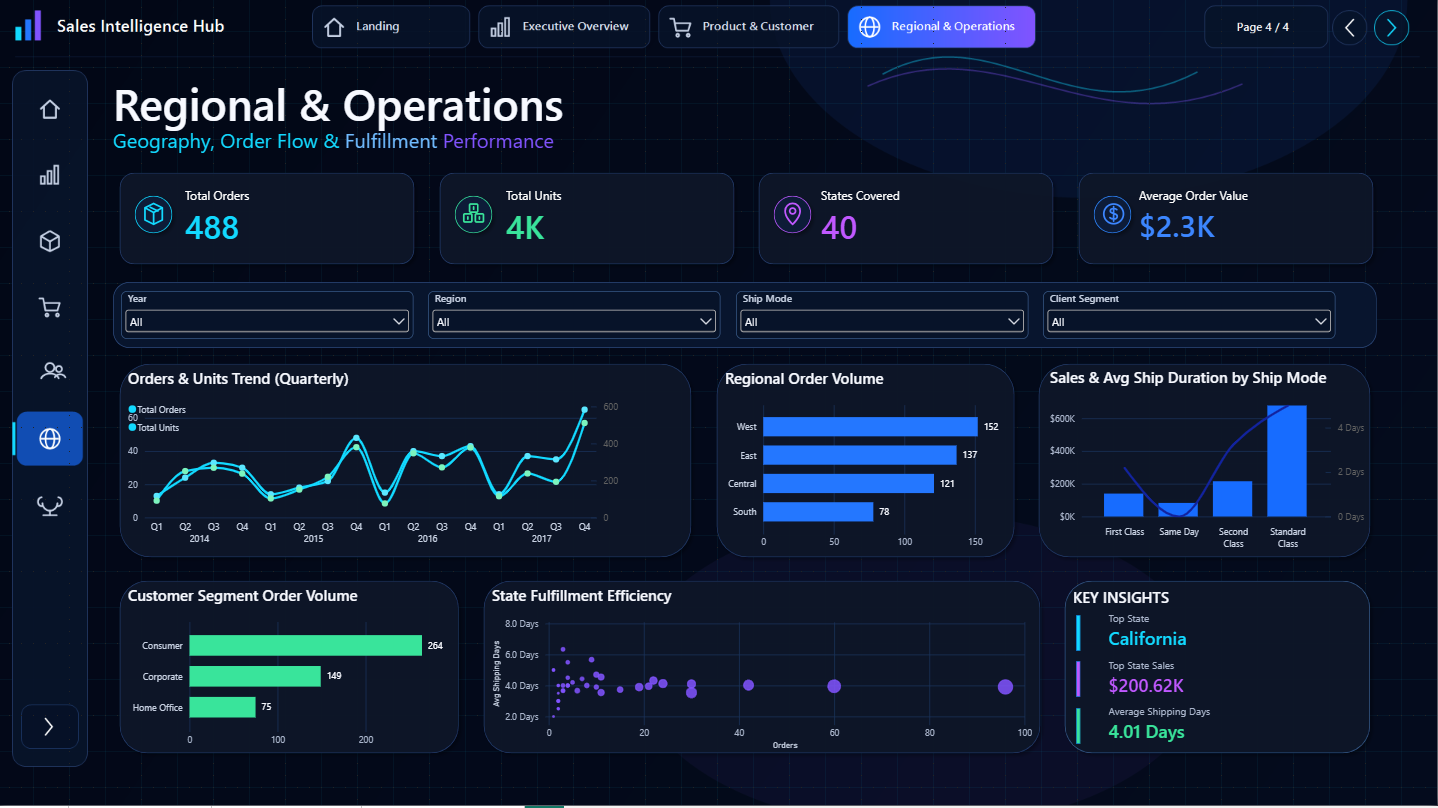

Layout of this report page (visuals, bound fields, positions):
{"tool":"powerbi","page":{"name":" Regional & Operations","canvas":[1920,1080],"ordinal":3},"visuals":[{"type":"shape","box":[155,382,1685,88],"z":0},{"type":"shape","box":[155,228,410.7,140],"z":1000},{"type":"shape","box":[882,14,240,56],"z":2000},{"type":"shape","box":[642,14,228,56],"z":3000},{"type":"shape","box":[420,14,210,56],"z":4000},{"type":"shape","box":[1134,14,250,56],"z":5000},{"type":"shape","box":[20,115,100,72],"z":6000},{"type":"shape","box":[20,203,100,72],"z":7000},{"type":"shape","box":[20,291,100,72],"z":8000},{"type":"shape","box":[20,379,100,72],"z":9000},{"type":"shape","box":[20,467,100,72],"z":10000},{"type":"shape","box":[20,555,100,72],"z":11000},{"type":"shape","box":[20,643,100,72],"z":12000},{"type":"shape","box":[1780,20,46,46],"z":13000},{"type":"shape","box":[1836,20,46,46],"z":14000},{"type":"textbox","box":[155,105,850,88],"z":15000},{"type":"textbox","box":[155,174,800,38],"z":16000},{"type":"shape","box":[581,228,410.7,140],"z":17000},{"type":"shape","box":[1433,228,410.7,140],"z":18000},{"type":"shape","box":[1007,228,410.7,140],"z":19000},{"type":"cardVisual","fields":{"Data":["_Measures.Total Orders"]},"box":[235,244,315,105],"z":20000},{"type":"cardVisual","fields":{"Data":["_Measures.Total Units"]},"box":[662,244,315,105],"z":21000},{"type":"cardVisual","fields":{"Data":["_Measures.States Covered"]},"box":[1083,244,315,105],"z":22000},{"type":"cardVisual","fields":{"Data":["_Measures.Average Order Value"]},"box":[1507,243,315,105],"z":23000},{"type":"shape","box":[175,258,68,68],"z":24000},{"type":"shape","box":[601,258,68,68],"z":25000},{"type":"shape","box":[1027,258,68,68],"z":26000},{"type":"shape","box":[1453,258,68,68],"z":27000},{"type":"image","box":[185,273,47,37],"z":28000},{"type":"image","box":[612,273,47,37],"z":29000},{"type":"image","box":[1037,273,47,37],"z":30000},{"type":"image","box":[1465,273,47,37],"z":31000},{"type":"slicer","fields":{"Values":["Sales_Data.Client Segment"]},"box":[1395,394,390,64],"z":32000},{"type":"slicer","fields":{"Values":["Sales_Data.Ship Mode"]},"box":[985,394,390,64],"z":33000},{"type":"slicer","fields":{"Values":["Sales_Data.Region"]},"box":[575,394,390,64],"z":34000},{"type":"slicer","fields":{"Values":["Date.Year"]},"box":[165,394,390,64],"z":35000},{"type":"shape","box":[640,772,760,248],"z":36000},{"type":"shape","box":[155,482,780,276],"z":37000},{"type":"shape","box":[1415,772,425,248],"z":38000},{"type":"shape","box":[155,772,470,248],"z":39000},{"type":"shape","box":[1380,482,460,276],"z":40000},{"type":"shape","box":[950,482,415,276],"z":41000},{"type":"lineChart","title":"Orders & Units Trend (Quarterly)","fields":{"Category":["Date.Year","Date.Quarter"],"Y":["_Measures.Total Orders"],"Y2":["_Measures.Total Units"]},"box":[167,490,756,258],"z":42000},{"type":"clusteredBarChart","title":"Regional Order Volume","fields":{"Category":["Sales_Data.Region"],"Y":["_Measures.Total Orders"]},"box":[962,490,391,258],"z":43000},{"type":"clusteredBarChart","title":"Customer Segment Order Volume","fields":{"Category":["Sales_Data.Client Segment"],"Y":["_Measures.Total Orders"]},"box":[167,780,446,232],"z":45000},{"type":"scatterChart","title":"State Fulfillment Efficiency","fields":{"Category":["Sales_Data.State"],"Size":["_Measures.Total Units"],"X":["_Measures.Total Orders"],"Y":["_Measures.Average Shipping Days"]},"box":[652,780,736,232],"z":46000},{"type":"textbox","box":[1435,788,360,34],"z":47000},{"type":"shape","box":[1438,888,6,48],"z":48000},{"type":"shape","box":[1438,826,6,48],"z":49000},{"type":"shape","box":[1438,950,6,48],"z":50000},{"type":"cardVisual","fields":{"Data":["_Measures.Top State"]},"box":[1460,820,350,56],"z":51000},{"type":"cardVisual","fields":{"Data":["_Measures.Top State Sales"]},"box":[1460,882,350,56],"z":52000},{"type":"cardVisual","fields":{"Data":["_Measures.Average Shipping Days"]},"box":[1460,944,350,56],"z":53000},{"type":"lineClusteredColumnComboChart","title":"Sales & Avg Ship Duration by Ship Mode","fields":{"Category":["Sales_Data.Ship Mode"],"Y":["_Measures.Total Sales"],"Y2":["_Measures.Average Shipping Days"]},"box":[1396,489.3,436,258],"z":53001}]}

Visuals, with their boxes on the page's 1920x1080 design canvas (x1, y1, x2, y2). These are canvas units, not pixel positions in the 1438x808 screenshot, which may show the page scaled, cropped or inside an application window:
shape: [155,382,1840,470]
shape: [155,228,566,368]
shape: [882,14,1122,70]
shape: [642,14,870,70]
shape: [420,14,630,70]
shape: [1134,14,1384,70]
shape: [20,115,120,187]
shape: [20,203,120,275]
shape: [20,291,120,363]
shape: [20,379,120,451]
shape: [20,467,120,539]
shape: [20,555,120,627]
shape: [20,643,120,715]
shape: [1780,20,1826,66]
shape: [1836,20,1882,66]
textbox: [155,105,1005,193]
textbox: [155,174,955,212]
shape: [581,228,992,368]
shape: [1433,228,1844,368]
shape: [1007,228,1418,368]
cardVisual - _Measures.Total Orders: [235,244,550,349]
cardVisual - _Measures.Total Units: [662,244,977,349]
cardVisual - _Measures.States Covered: [1083,244,1398,349]
cardVisual - _Measures.Average Order Value: [1507,243,1822,348]
shape: [175,258,243,326]
shape: [601,258,669,326]
shape: [1027,258,1095,326]
shape: [1453,258,1521,326]
image: [185,273,232,310]
image: [612,273,659,310]
image: [1037,273,1084,310]
image: [1465,273,1512,310]
slicer - Sales_Data.Client Segment: [1395,394,1785,458]
slicer - Sales_Data.Ship Mode: [985,394,1375,458]
slicer - Sales_Data.Region: [575,394,965,458]
slicer - Date.Year: [165,394,555,458]
shape: [640,772,1400,1020]
shape: [155,482,935,758]
shape: [1415,772,1840,1020]
shape: [155,772,625,1020]
shape: [1380,482,1840,758]
shape: [950,482,1365,758]
"Orders & Units Trend (Quarterly)" lineChart: [167,490,923,748]
"Regional Order Volume" clusteredBarChart: [962,490,1353,748]
"Customer Segment Order Volume" clusteredBarChart: [167,780,613,1012]
"State Fulfillment Efficiency" scatterChart: [652,780,1388,1012]
textbox: [1435,788,1795,822]
shape: [1438,888,1444,936]
shape: [1438,826,1444,874]
shape: [1438,950,1444,998]
cardVisual - _Measures.Top State: [1460,820,1810,876]
cardVisual - _Measures.Top State Sales: [1460,882,1810,938]
cardVisual - _Measures.Average Shipping Days: [1460,944,1810,1000]
"Sales & Avg Ship Duration by Ship Mode" lineClusteredColumnComboChart: [1396,489,1832,747]
